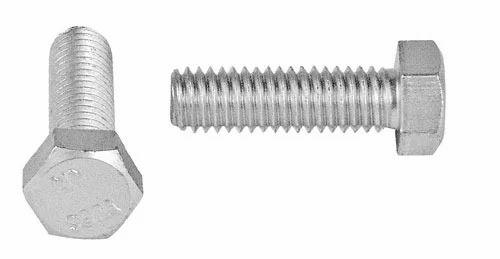hexagonal: (22, 129, 144, 238)
